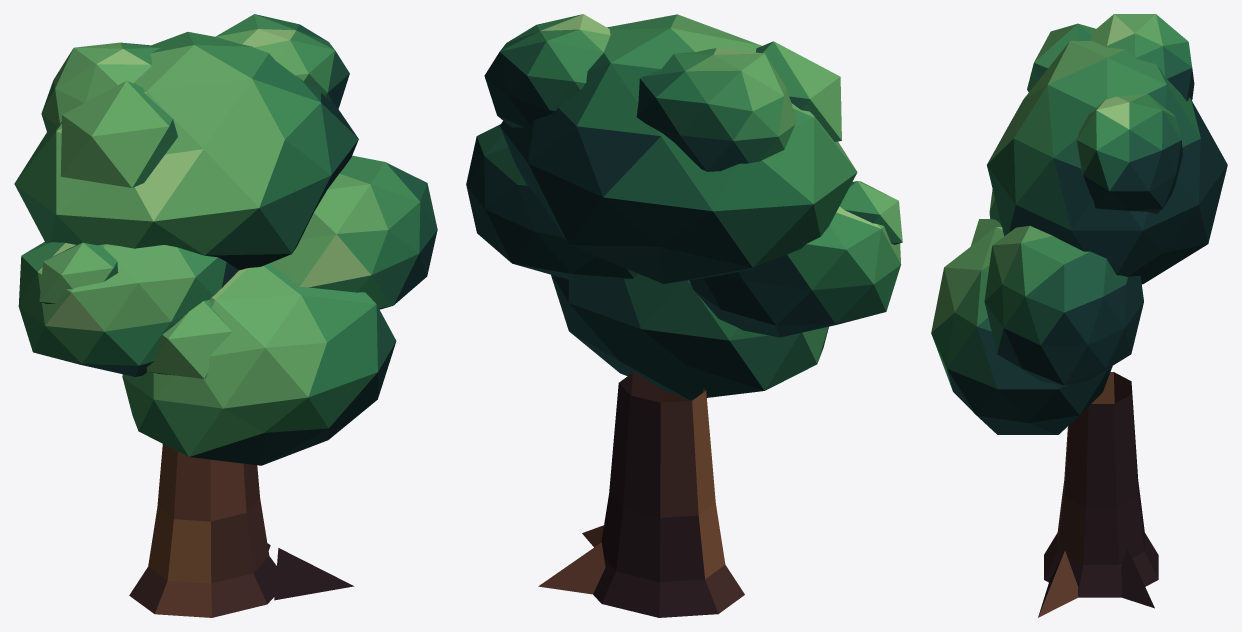
Rendered from tree_tree23.glb.
3 views of the same model, side by side, from view 1: azimuth 30°, elevation 25°; view 2: azimuth 150°, elevation 25°; view 3: azimuth 270°, elevation 25° (orthographic). The views are drawn at different scales.
Parts seen in each view (by area): view 1: tree23; view 2: tree23; view 3: tree23.
Part boxes in pixels (<box>): tree23: <box>14,14,437,617</box>; tree23: <box>466,14,902,617</box>; tree23: <box>931,14,1227,617</box>.
Size of the model in its own units: 1.07 by 1.39 by 0.7418.
